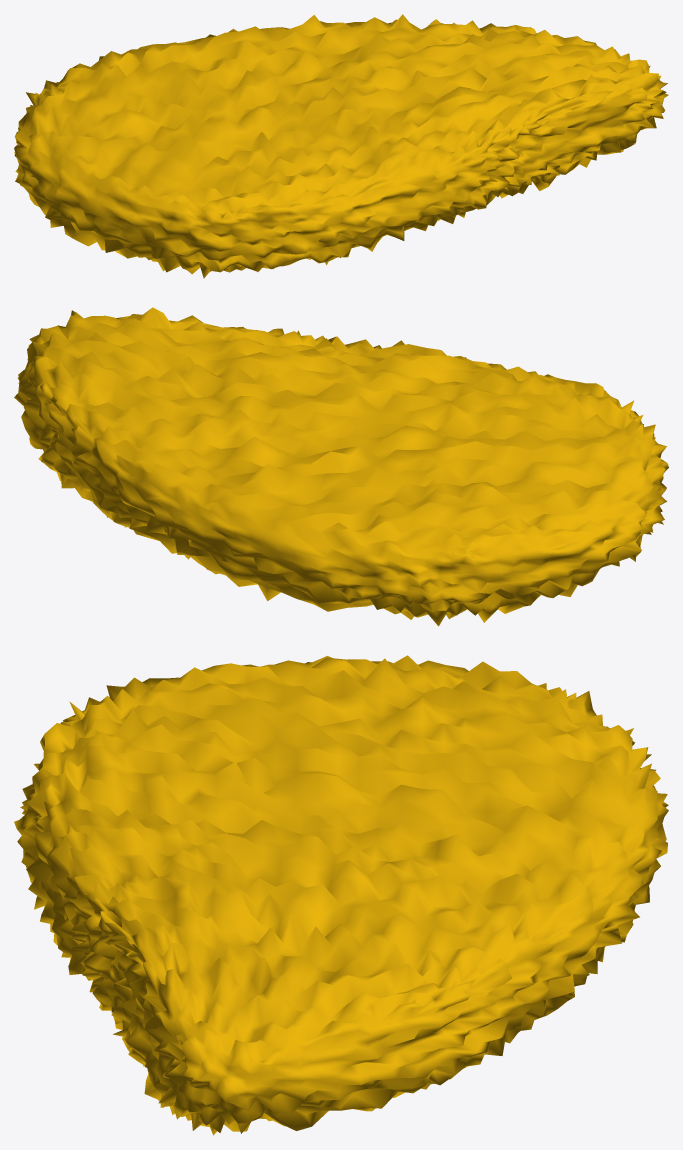
Rendered from katu.fbx.
3 views of the same model, one above another, from view 1: azimuth 30°, elevation 25°; view 2: azimuth 150°, elevation 25°; view 3: azimuth 270°, elevation 25° (orthographic). The views are drawn at different scales.
Visible parts, largest first — view 1: 平面; view 2: 平面; view 3: 平面.
Part boxes in pixels (x1,y1,x2,y2): 平面: [14, 14, 668, 278]; 平面: [14, 307, 668, 626]; 平面: [14, 655, 668, 1135].
Bounding box in the file's own units: 3 × 0.4595 × 1.96.
